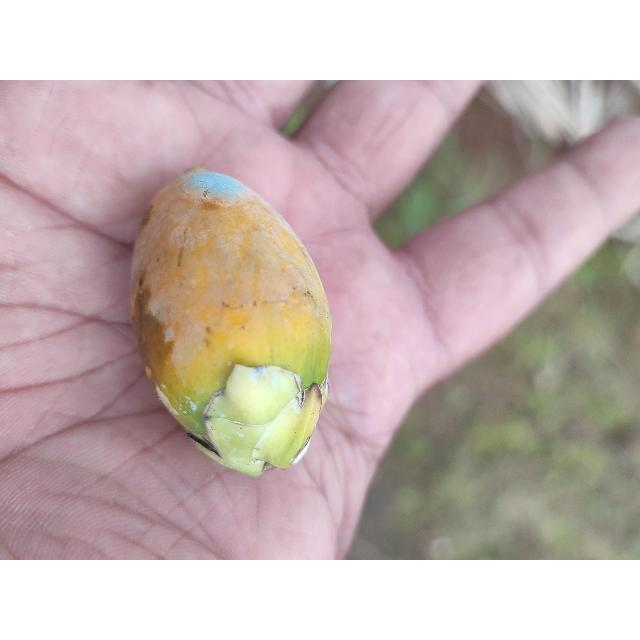good: (127, 168, 335, 480)
